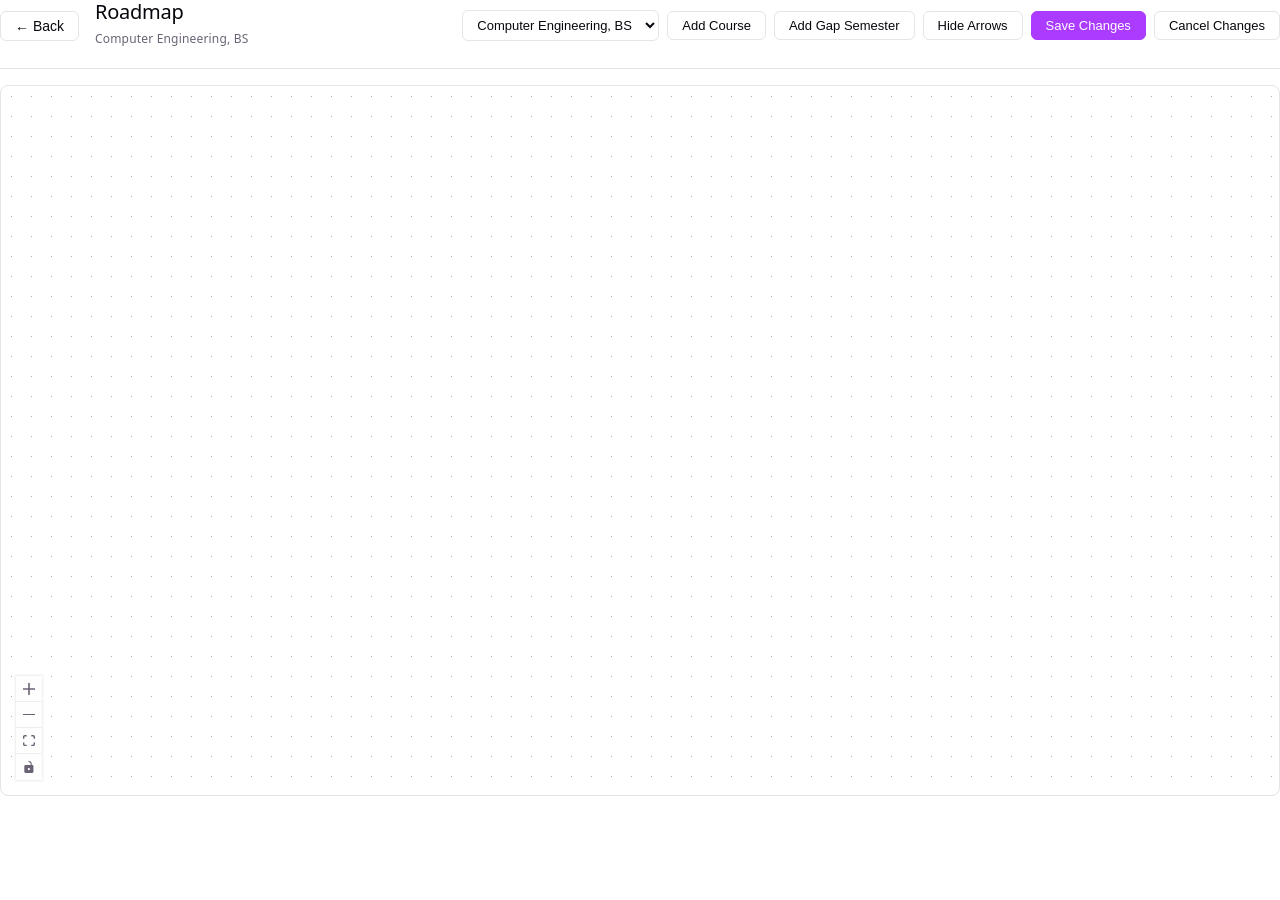
Roadmap leave guard › routes the Back button through the same prompt
The image size is (1280, 900).
Step 1. Click the button "← Back" → (40, 26), box [0,11,79,41]
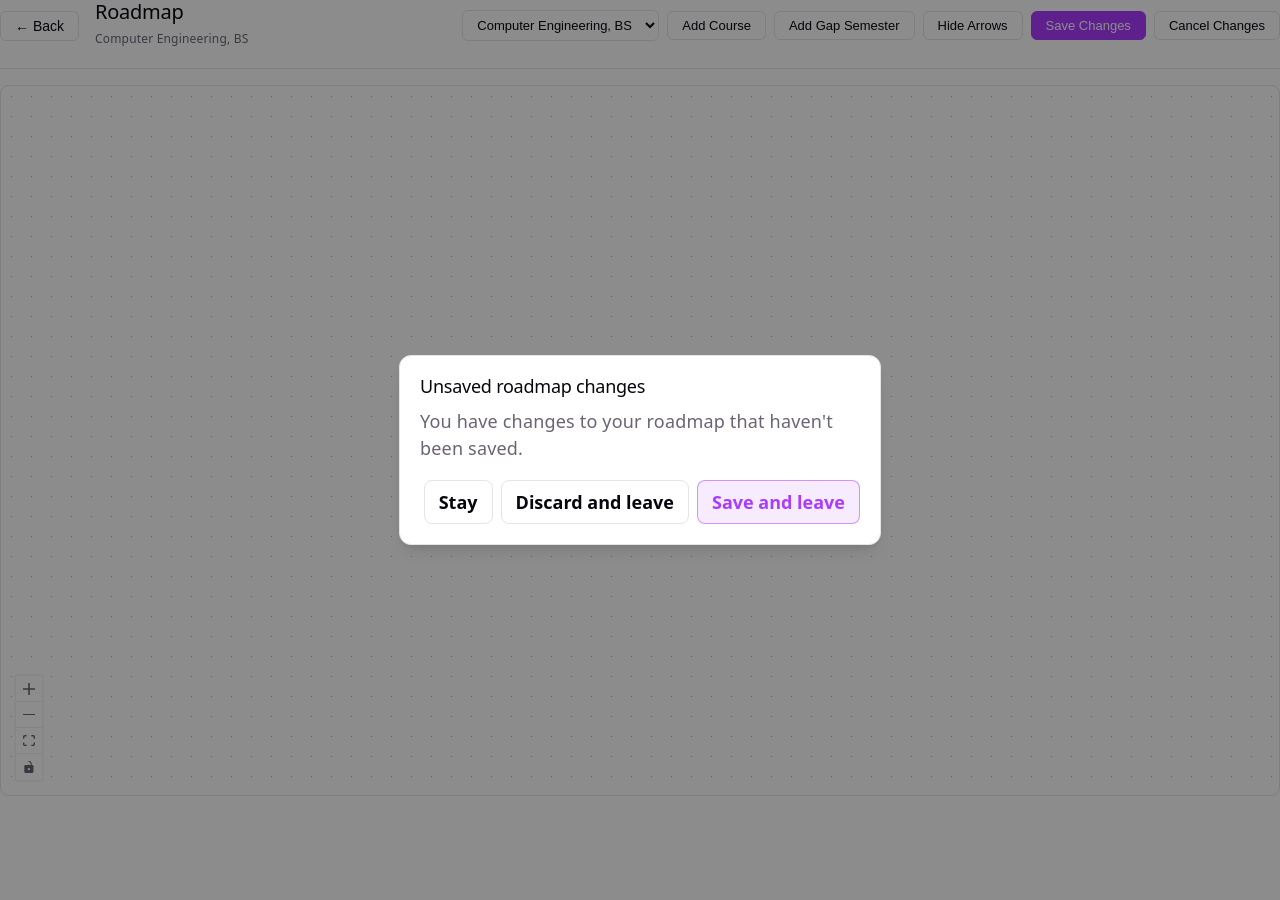
Check: the dialog "Unsaved roadmap changes" is shown, box [399,355,881,545]
